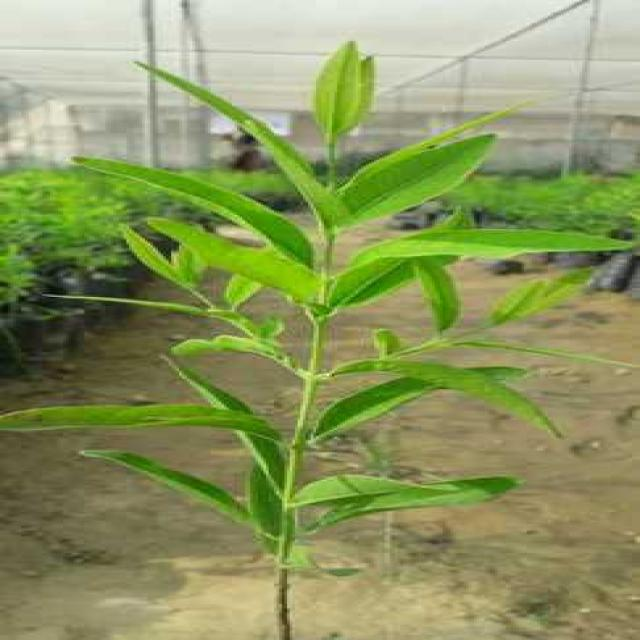Sandalwood: (87, 31, 640, 640)
